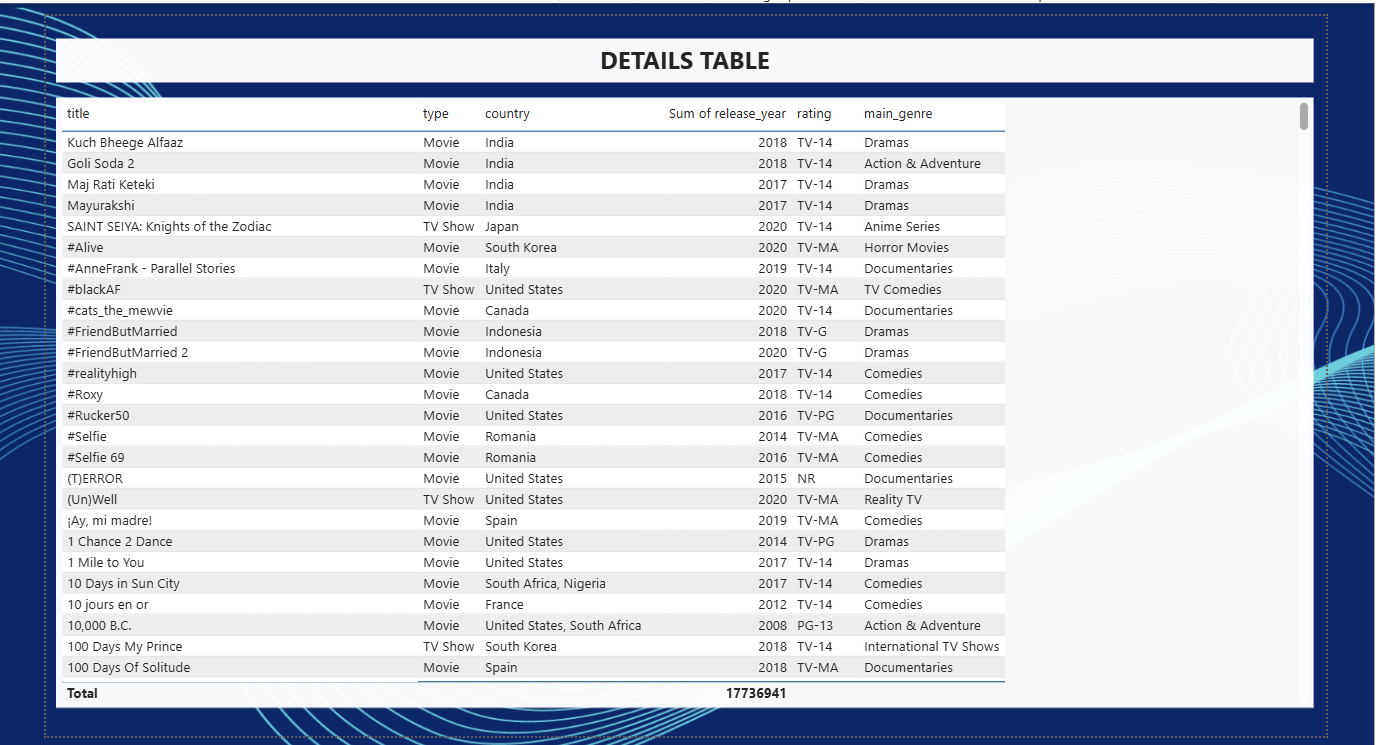

What the dashboard file says about the page in this screenshot:
{"tool":"powerbi","page":{"name":"Page 4","canvas":[1280,720],"ordinal":3},"visuals":[{"type":"textbox","box":[10,22.5,1257.5,43.8],"z":0},{"type":"tableEx","fields":{"Values":["netflix_cleaned.title","netflix_cleaned.type","netflix_cleaned.country","Sum(netflix_cleaned.release_year)","netflix_cleaned.rating","netflix_cleaned.main_genre"]},"box":[10,81.2,1257.5,610],"z":1000}]}

Visuals, with their boxes on the page's 1280x720 design canvas (x1, y1, x2, y2). These are canvas units, not pixel positions in the 1376x745 screenshot, which may show the page scaled, cropped or inside an application window:
textbox: detection(10, 22, 1268, 66)
tableEx - netflix_cleaned.title x netflix_cleaned.type: detection(10, 81, 1268, 691)
